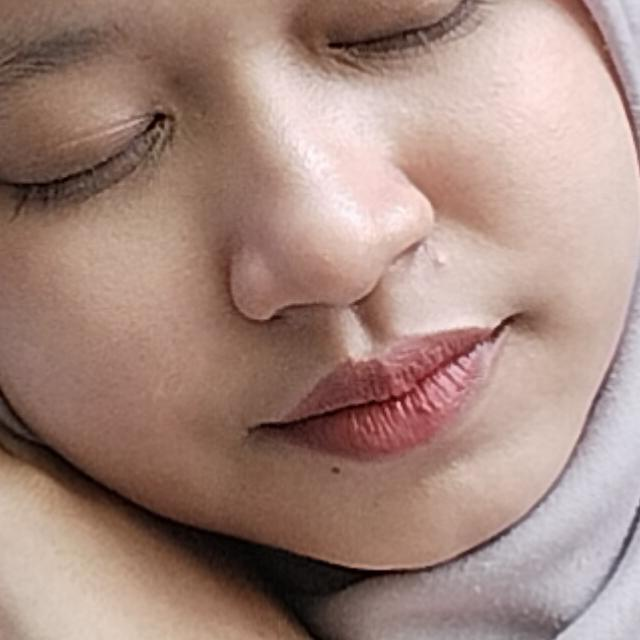tidur: (0, 38, 536, 640)
